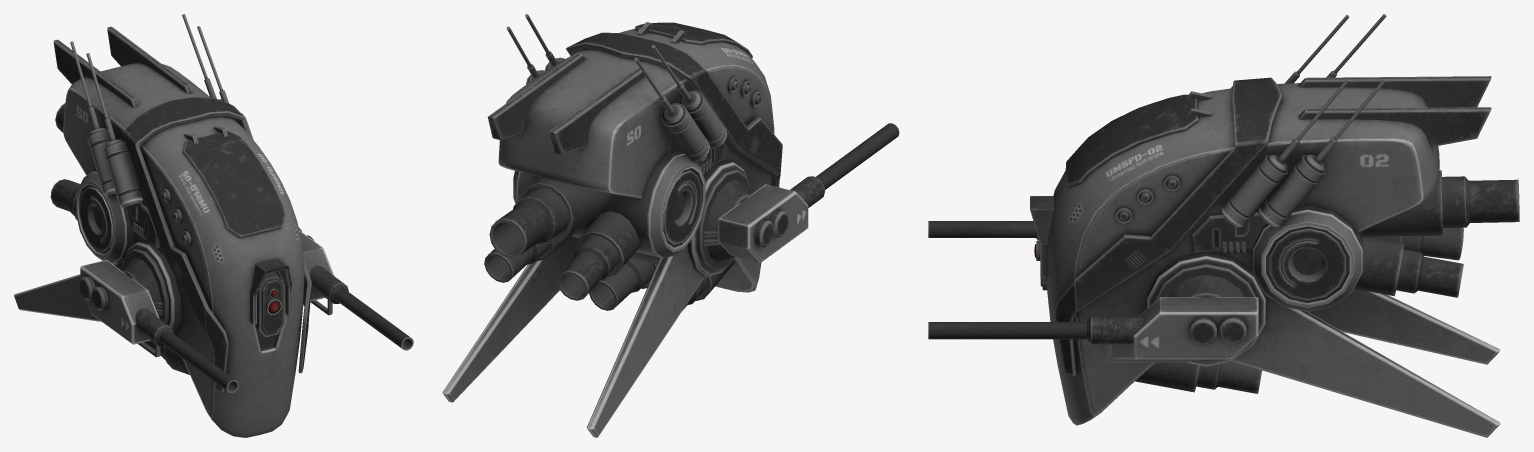
The model's file is uploads_files_4825421_UMSFD_02_FBX_.glb.
3 views of the same model, side by side, from view 1: azimuth 30°, elevation 25°; view 2: azimuth 150°, elevation 25°; view 3: azimuth 270°, elevation 25° (orthographic). The views are drawn at different scales.
Parts seen in each view (by area): view 1: UMSFD_02_poly; view 2: UMSFD_02_poly; view 3: UMSFD_02_poly.
Part boxes in pixels (left/top/right/bottom): UMSFD_02_poly: left=14, top=14, right=413, bottom=437; UMSFD_02_poly: left=442, top=14, right=899, bottom=437; UMSFD_02_poly: left=928, top=14, right=1519, bottom=437.
Size of the model in its own units: 0.2125 by 0.2942 by 0.4271.
1 material, 1 textured.
